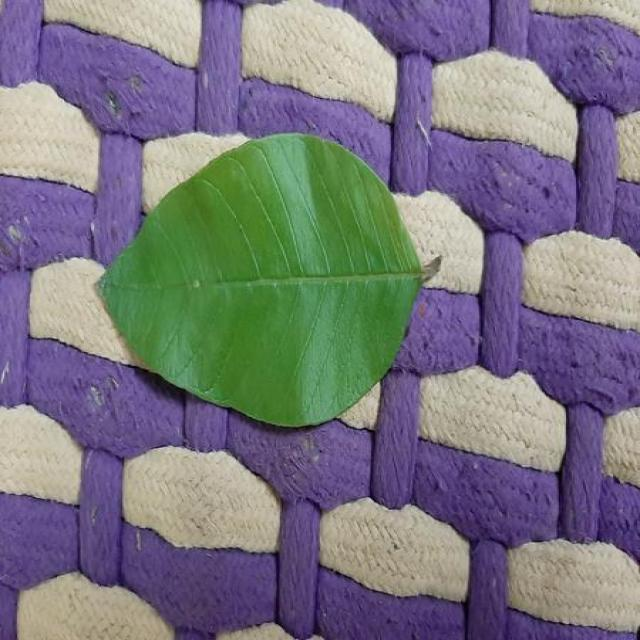leaf: (96, 130, 431, 429)
